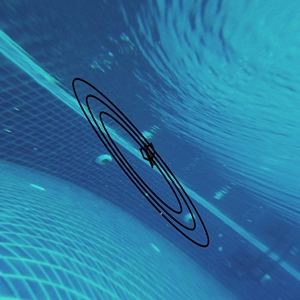circle: (55, 65, 225, 263)
submarine: (142, 146, 153, 161)
